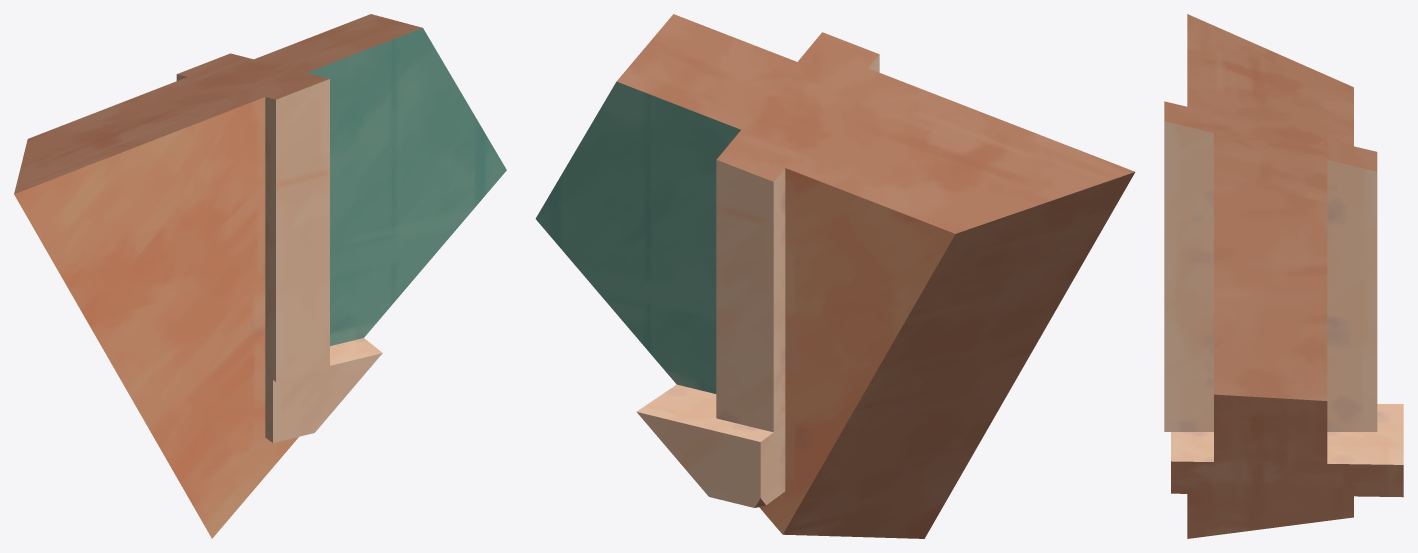
File: wall2_shutter_s07.fbx
The picture shows the model from 3 angles, left to right: view 1: azimuth 30°, elevation 25°; view 2: azimuth 150°, elevation 25°; view 3: azimuth 270°, elevation 25°; orthographic projection. The views are drawn at different scales.
Parts seen in each view (by area): view 1: wall2_shutter_s07; view 2: wall2_shutter_s07; view 3: wall2_shutter_s07.
Part boxes in pixels (left/top/right/bottom): wall2_shutter_s07: left=14, top=14, right=506, bottom=538; wall2_shutter_s07: left=535, top=14, right=1135, bottom=538; wall2_shutter_s07: left=1164, top=14, right=1403, bottom=538.
Bounding box in the file's own units: 3.76 × 3.18 × 1.44.
